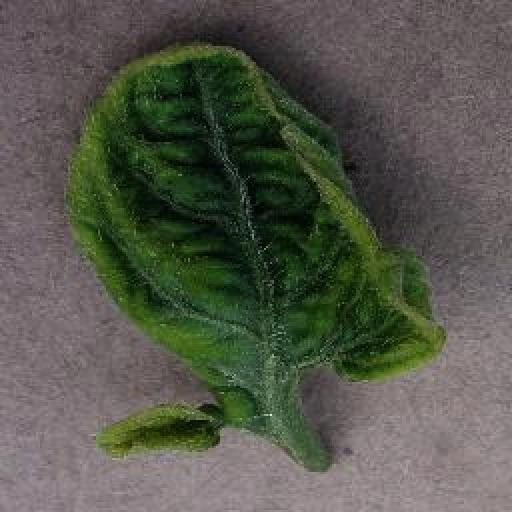disease_tomato: (71, 41, 449, 383), (96, 404, 220, 458)
